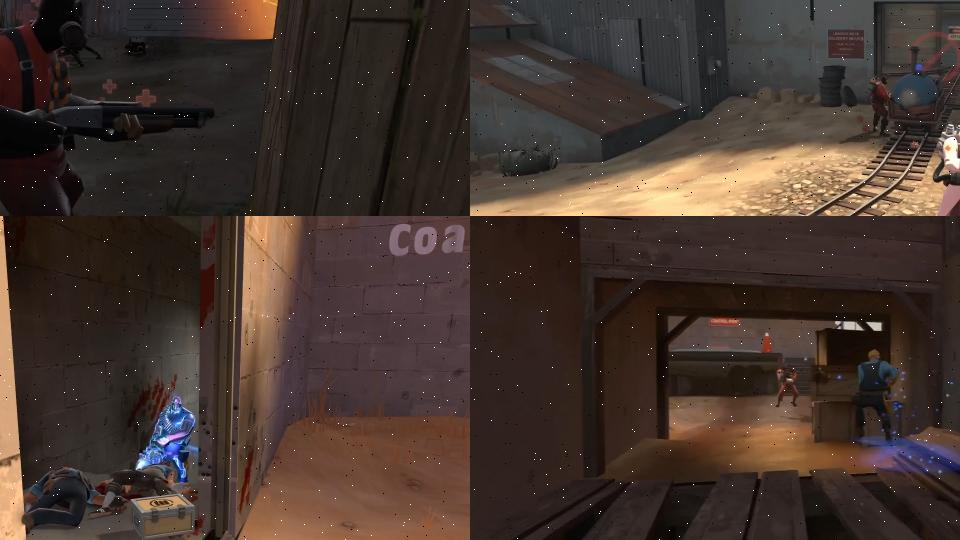Enemy: (0, 0, 217, 216), (23, 465, 129, 535), (89, 460, 193, 520), (136, 395, 197, 483), (851, 349, 898, 445), (925, 114, 960, 216), (866, 75, 893, 137), (776, 365, 799, 410)
